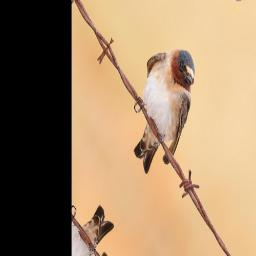Swallow: (111, 21, 214, 187)
